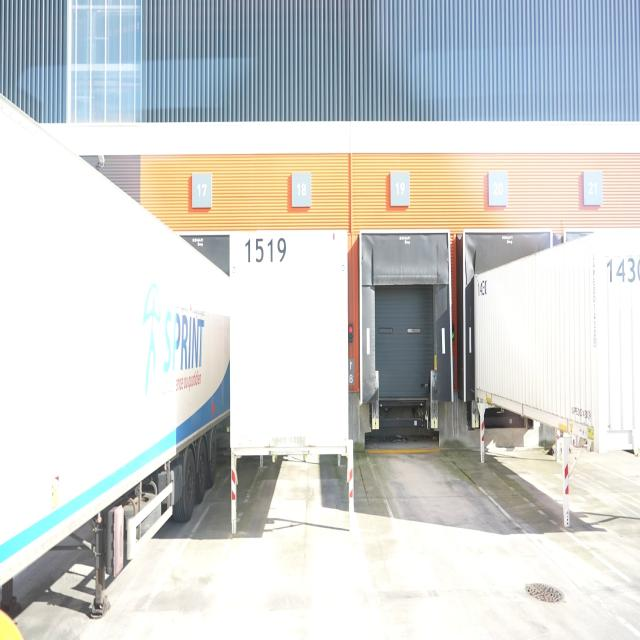Code: (242, 230, 290, 269)
